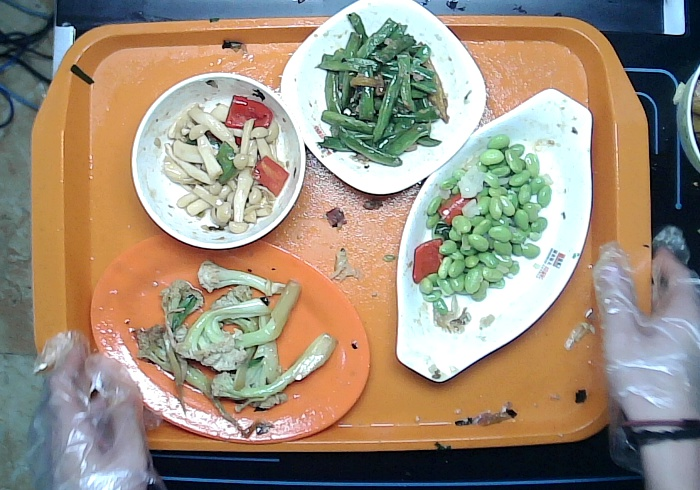NLDX-Bai_Se_Xiao_Fang_Die: (279, 1, 488, 196)
NLDX-Fan_Wan: (130, 69, 308, 251)
NLDX-Ju_Se_Pan: (89, 231, 371, 446)
NLDX-Yu_Pan: (394, 86, 594, 383)
